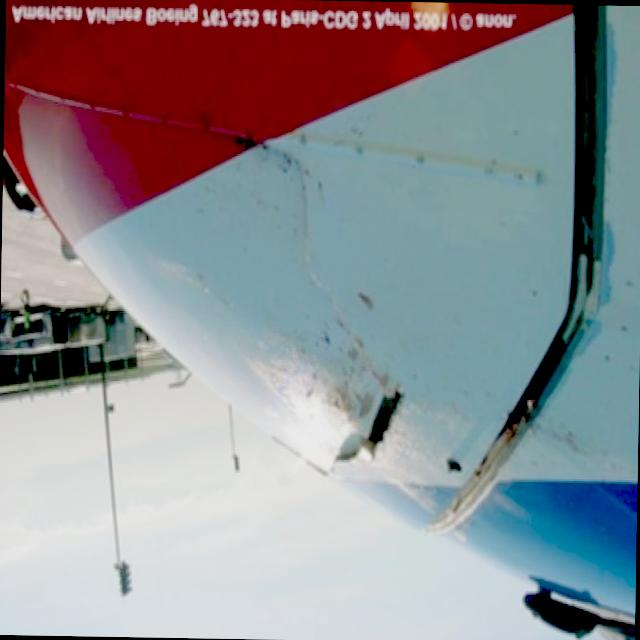crack: (329, 446, 356, 470)
